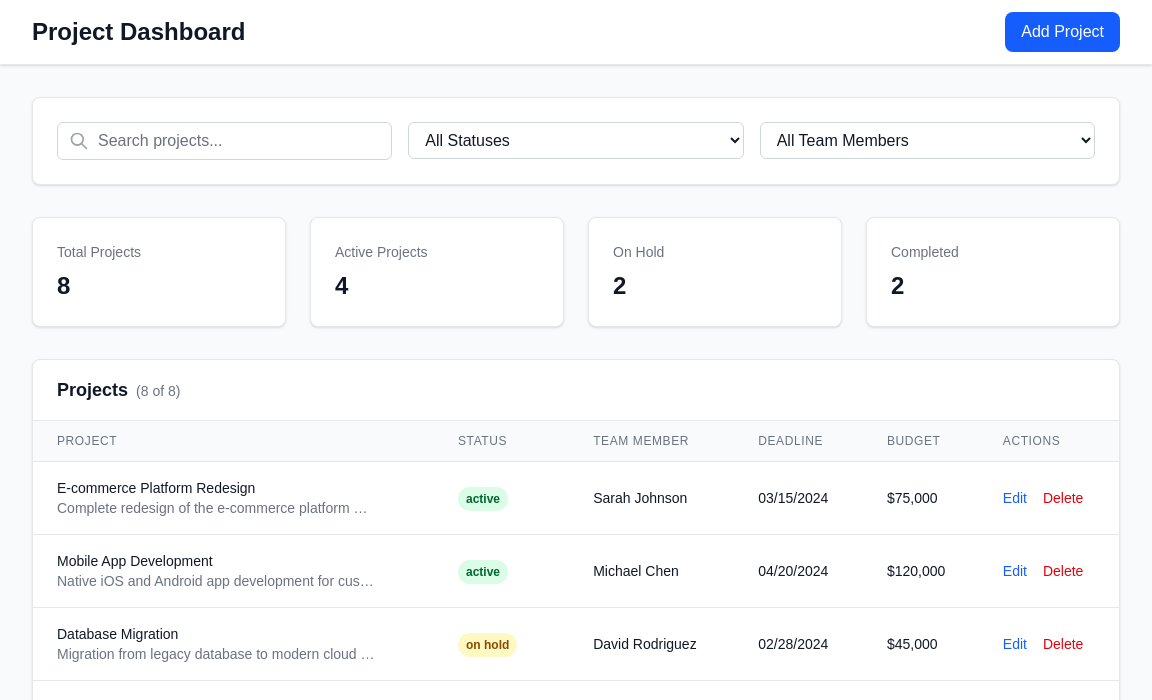
it: Dashboard Component › Adding New Project › should open modal when Add Project button is clicked
Click the button "Add Project" at (1063, 32), box x1=1005 y1=12 x2=1120 y2=52
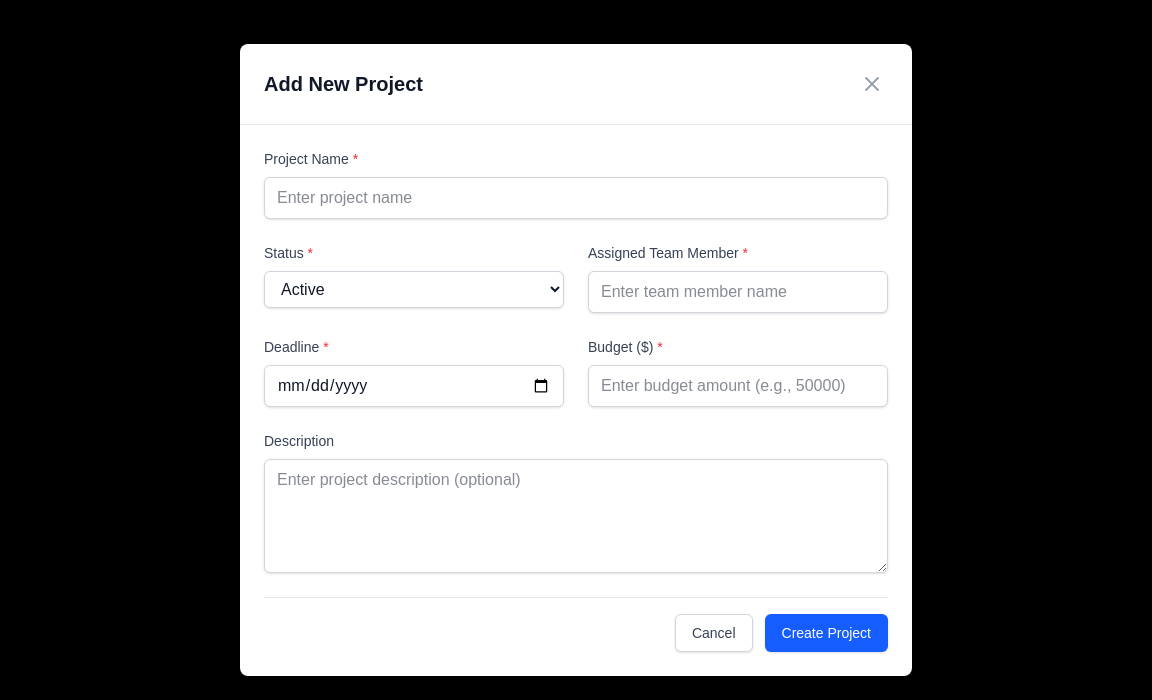
Check: the heading "Add New Project" is shown, box x1=264 y1=70 x2=423 y2=98
Check: the field labelled "Project Name *" is shown, box x1=264 y1=177 x2=888 y2=219
